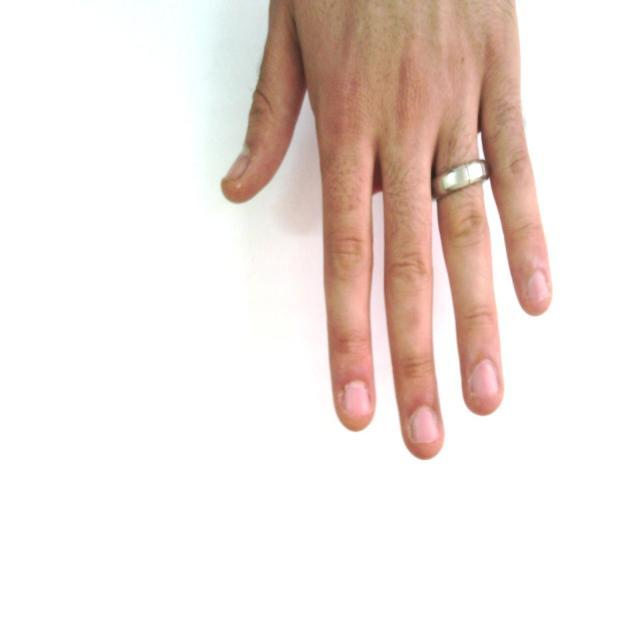Fingernail: (471, 362, 499, 397), (411, 409, 439, 443), (344, 382, 371, 417), (226, 152, 249, 182), (530, 273, 549, 302)
